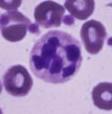N: (29, 30, 83, 84)
